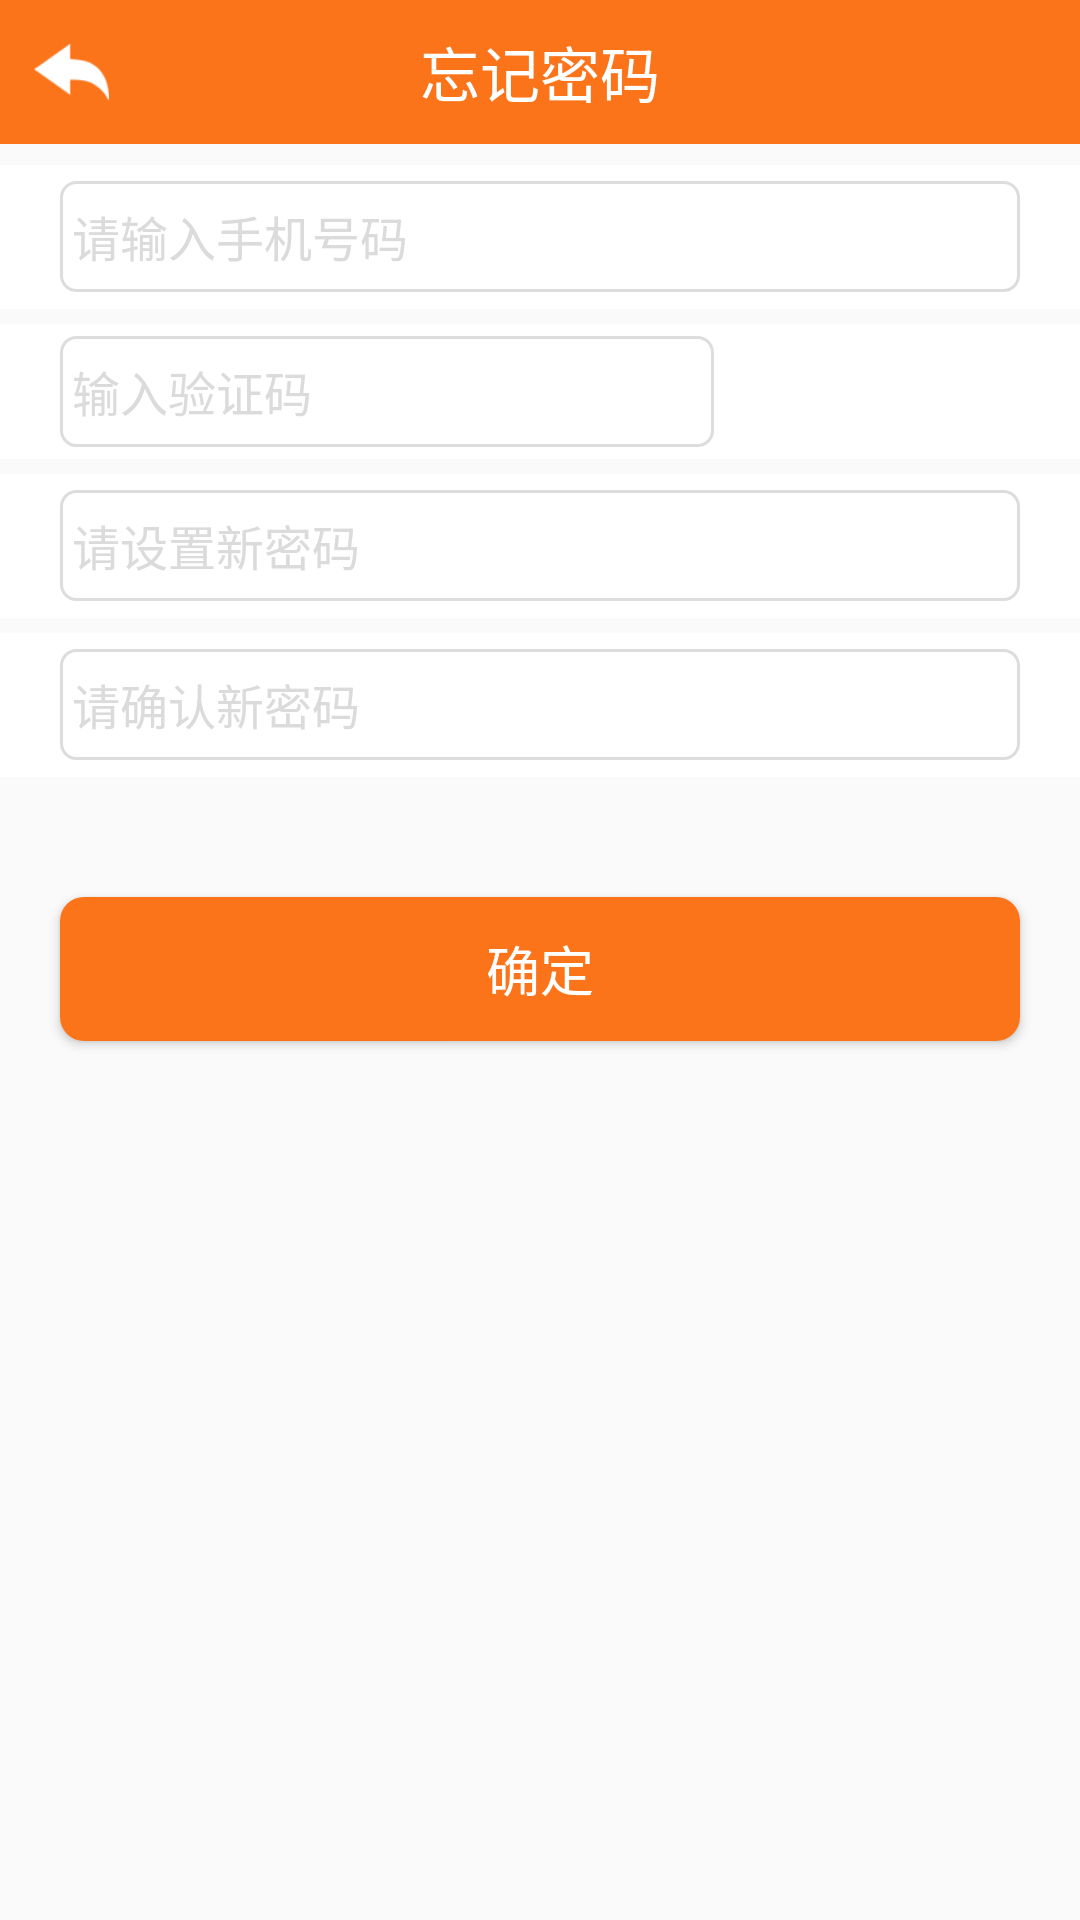

Icon bounding boxes for this 1080px x 1920px phone screenshot, format (x1, y1, x2, y2):
fanhui: (34, 44, 109, 100)
